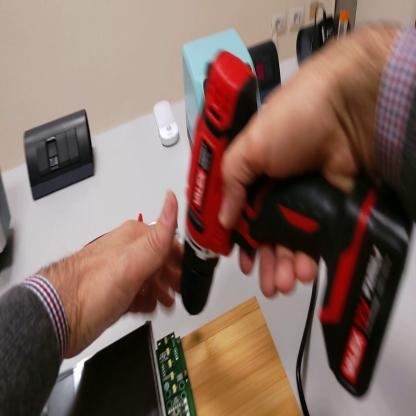electric screwdriver: (181, 51, 375, 327)
hand: (218, 44, 361, 301), (49, 189, 186, 365)
low voltage board: (42, 321, 198, 416)
oscilloscope: (1, 171, 13, 264)
socket: (295, 14, 353, 68), (249, 37, 283, 107)
welder base: (338, 7, 352, 42)
welder station: (181, 32, 262, 156)
working area: (184, 298, 304, 416)
